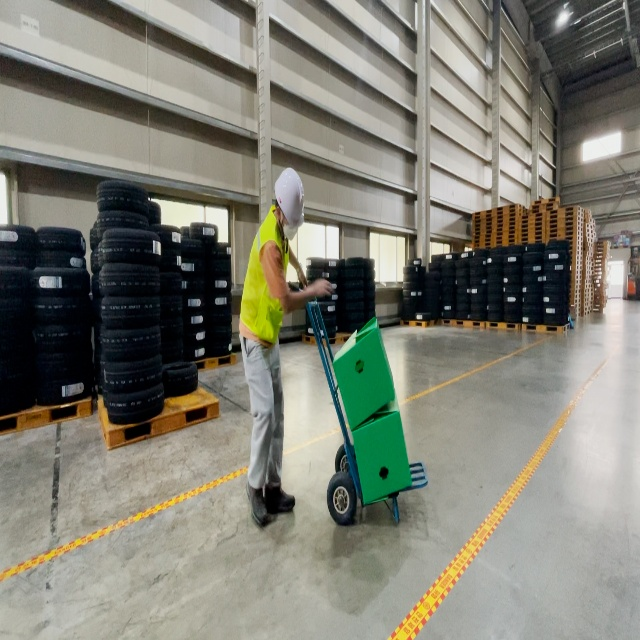Box: (331, 315, 396, 433), (350, 387, 412, 506)
Worker: (238, 165, 335, 528)
